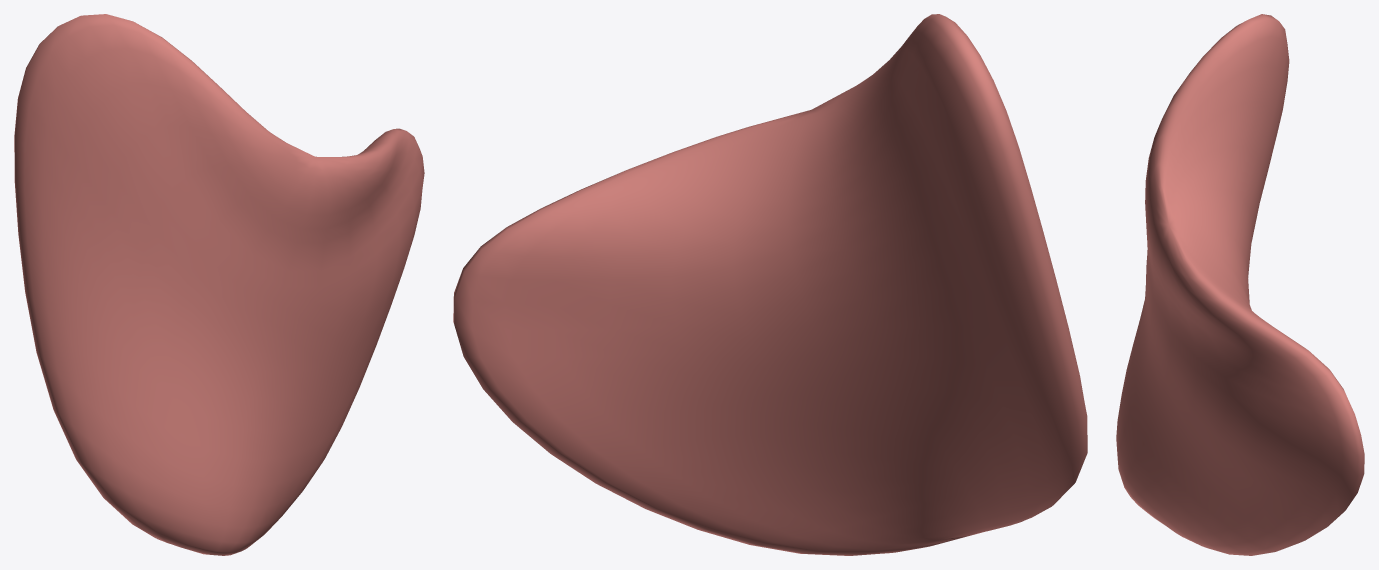
The picture shows the model from 3 angles, left to right: view 1: azimuth 30°, elevation 25°; view 2: azimuth 150°, elevation 25°; view 3: azimuth 270°, elevation 25°; orthographic projection. The views are drawn at different scales.
Parts seen in each view (by area): view 1: ZA_157e01b81b34938f; view 2: ZA_157e01b81b34938f; view 3: ZA_157e01b81b34938f.
Part boxes in pixels (x1,y1,x2,y2): ZA_157e01b81b34938f: (14, 14, 424, 555); ZA_157e01b81b34938f: (453, 14, 1087, 555); ZA_157e01b81b34938f: (1116, 14, 1364, 555).
Bounding box in the file's own units: 0.02 × 0.0215 × 0.0104.
